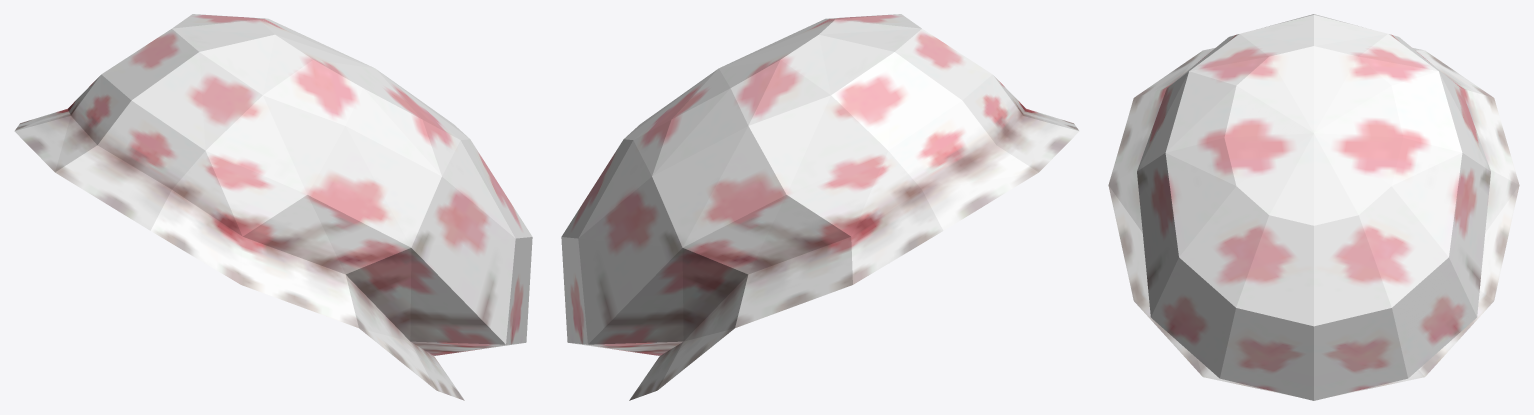
Rendered from Bat_showerCap.obj.
3 views of the same model, side by side, from view 1: azimuth 30°, elevation 25°; view 2: azimuth 150°, elevation 25°; view 3: azimuth 270°, elevation 25° (orthographic). The views are drawn at different scales.
Visible parts, largest first — view 1: Bat_showerCap_tri; view 2: Bat_showerCap_tri; view 3: Bat_showerCap_tri.
Part boxes in pixels (<box>): Bat_showerCap_tri: <box>14,14,532,400</box>; Bat_showerCap_tri: <box>561,14,1079,400</box>; Bat_showerCap_tri: <box>1108,14,1519,400</box>.
Bounding box in the file's own units: 0.344 × 0.2656 × 0.3343.
Materials: 1 (1 with a texture image).
